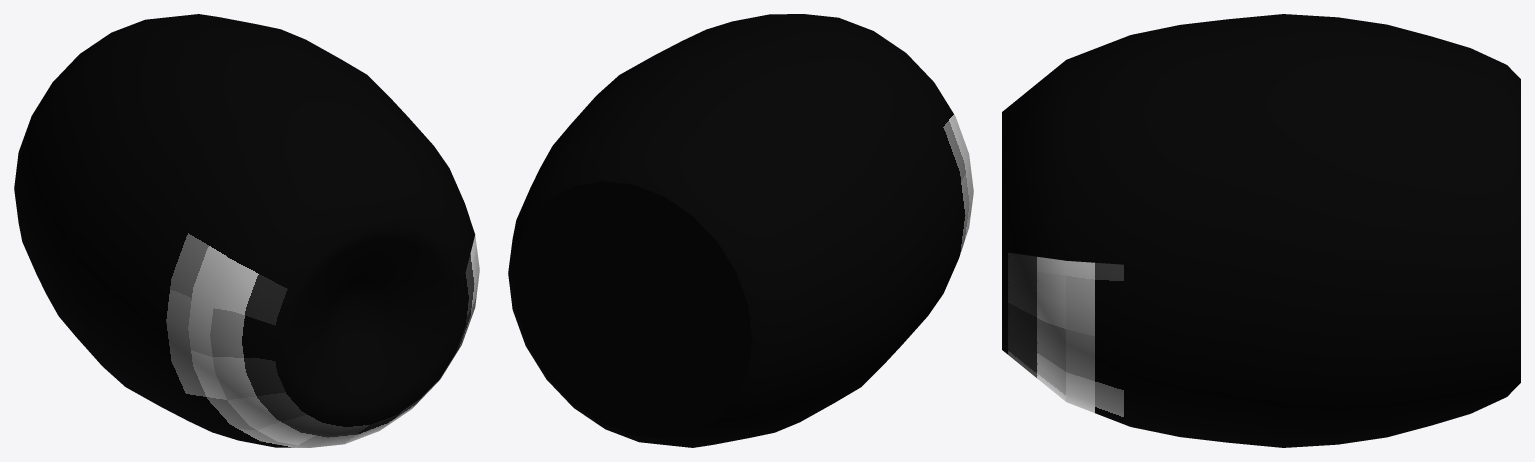
The model's file is FusionReactor.FBX.
3 renders of one model, left to right at view 1: azimuth 30°, elevation 25°; view 2: azimuth 150°, elevation 25°; view 3: azimuth 270°, elevation 25°, orthographic. The views are drawn at different scales.
Visible parts, largest first — view 1: FusionRector; view 2: FusionRector; view 3: FusionRector.
Boxes of the visible parts, box(x1,y1,x2,y2) form: FusionRector: box(14, 14, 479, 447); FusionRector: box(508, 14, 973, 447); FusionRector: box(1002, 14, 1520, 447).
Bounding box in the file's own units: 3.56 × 3.56 × 4.24.
